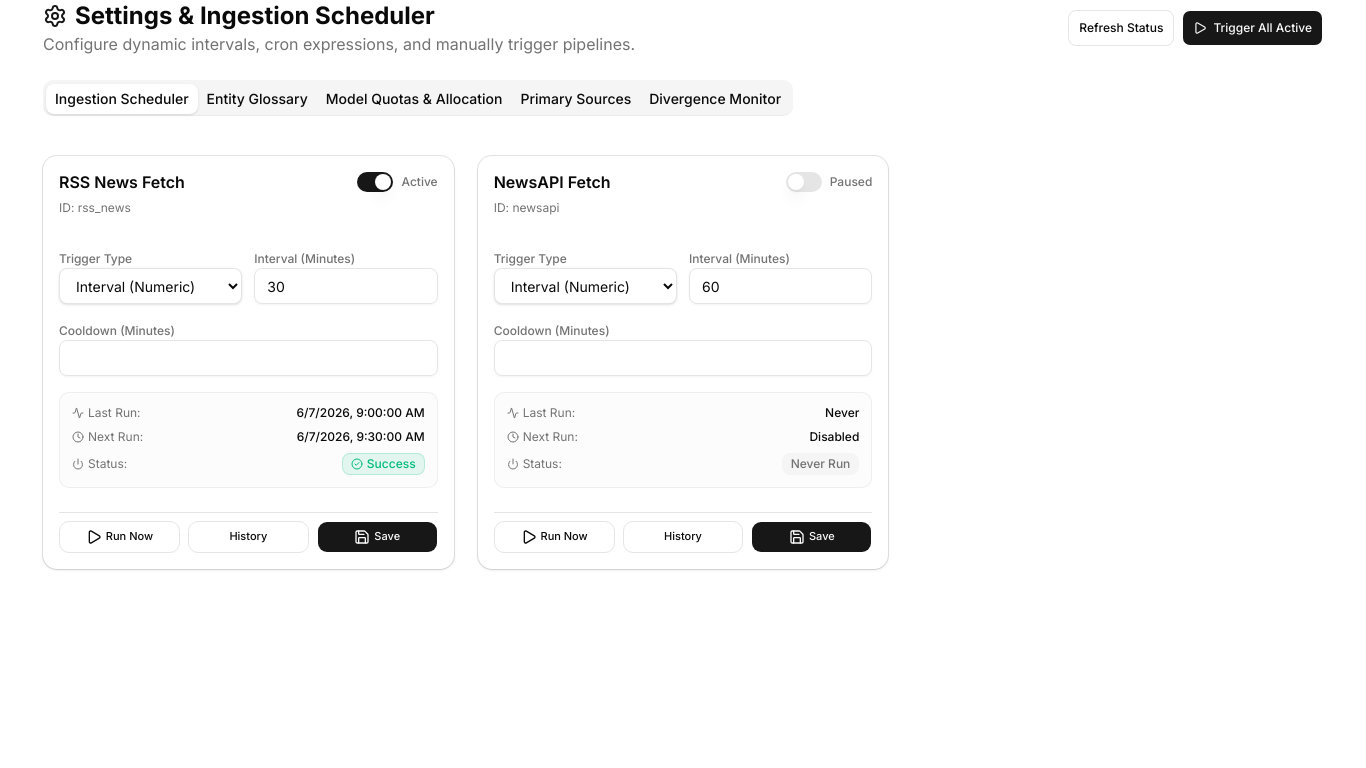
Test case: Settings Page Tabs - Slice 6 › opens the Task History side drawer when 'View History' is clicked
The image size is (1366, 768).
Expected: the text "RSS News Fetch" is shown, [59,174,185,190]
Click the button with aria-label "view-history-rss_news": (248, 537) [188,521,309,553]
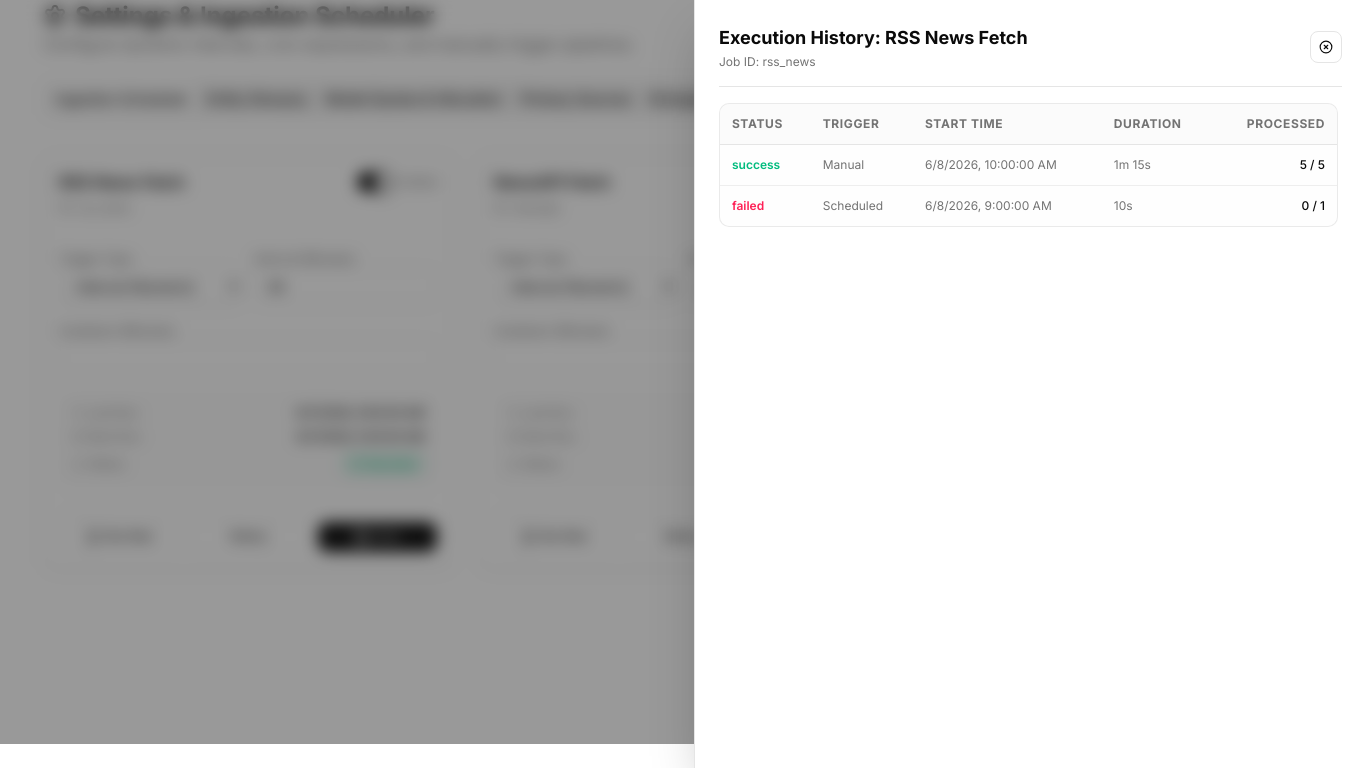
Now the heading "Execution History: RSS News Fetch" is shown, box [719,24,1028,52]
Now the text "success" is shown, box [732,157,780,173]
Now the text "failed" is shown
# Click failed row to expand traceback
Click the text "failed": (748, 206) [732,198,764,214]
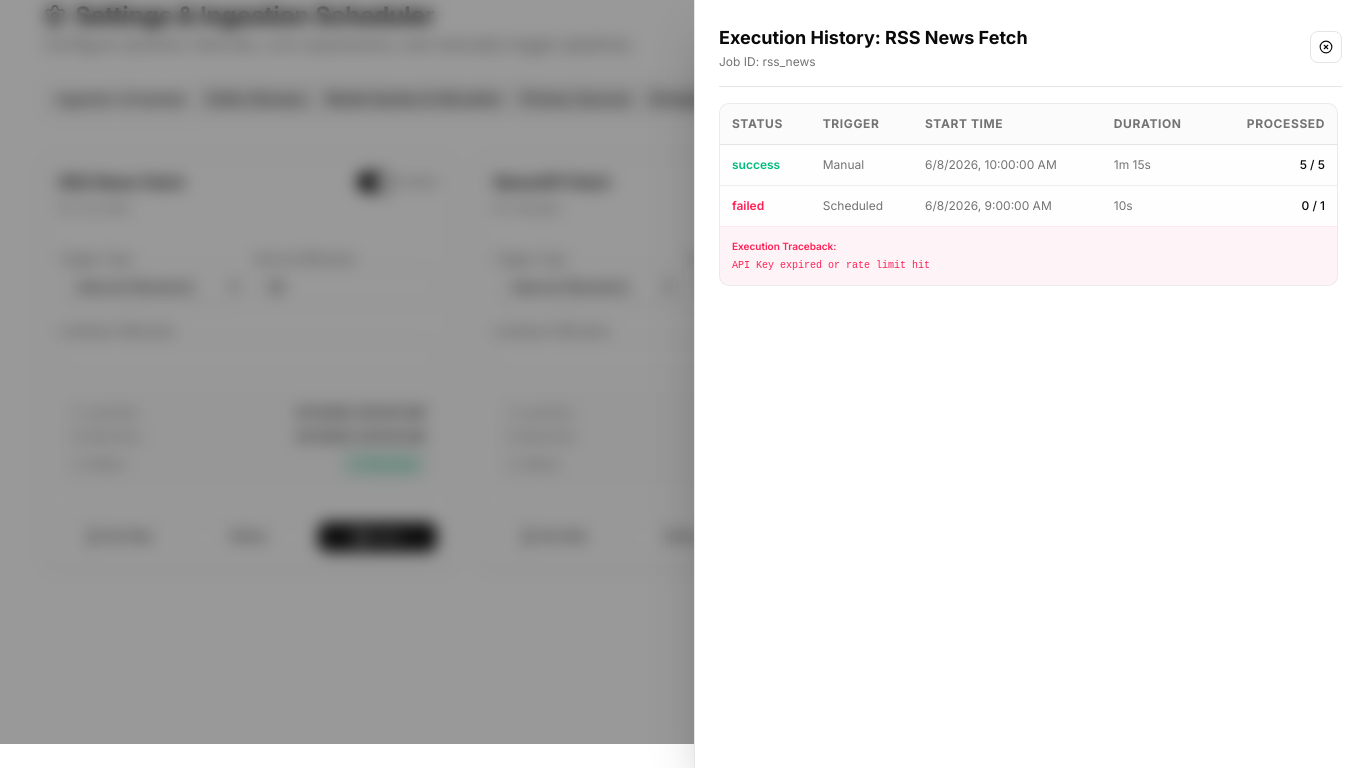
Now the button named "close-drawer" is shown
Now the text "API Key expired or rate limit hit" is shown, box [732,260,930,271]
Click the button named "close-drawer": (1326, 47) [1310,31,1342,63]
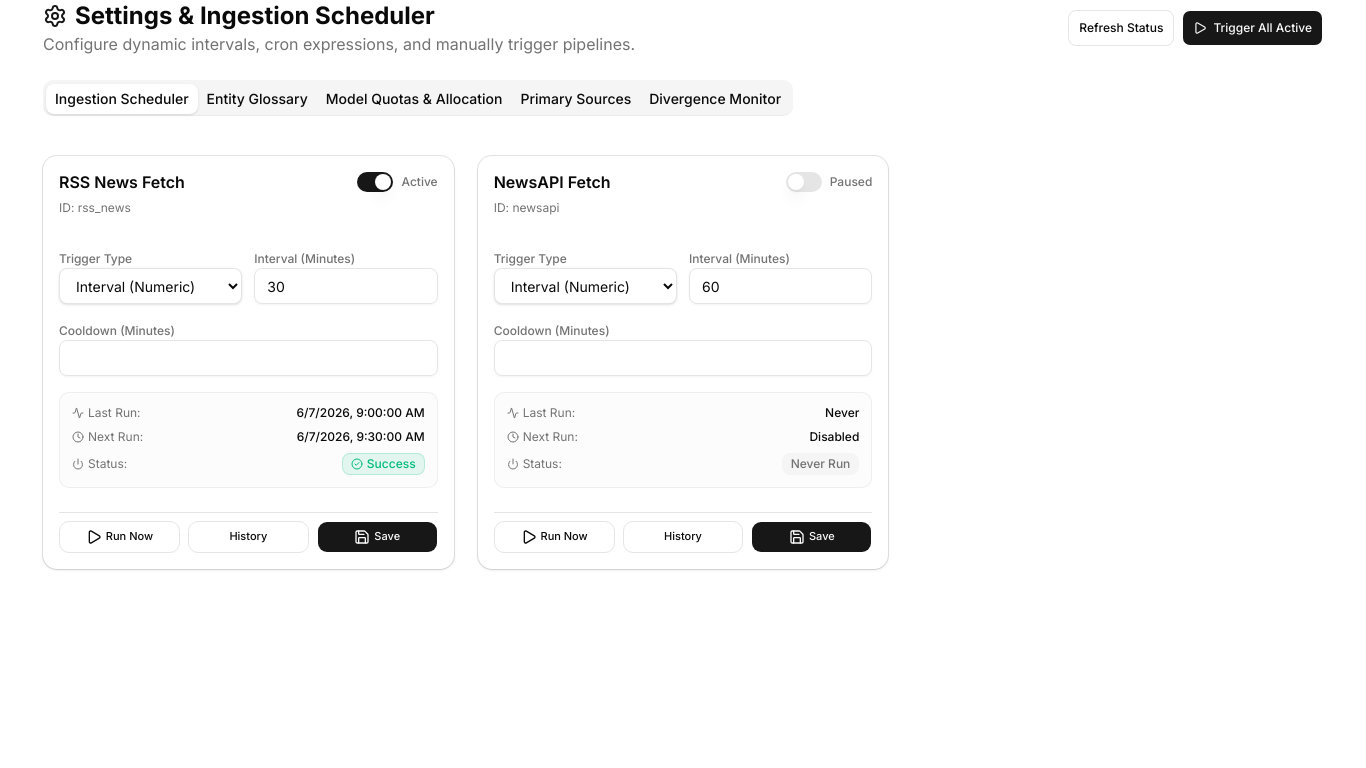
Now the heading "Execution History: RSS News Fetch" is gone
